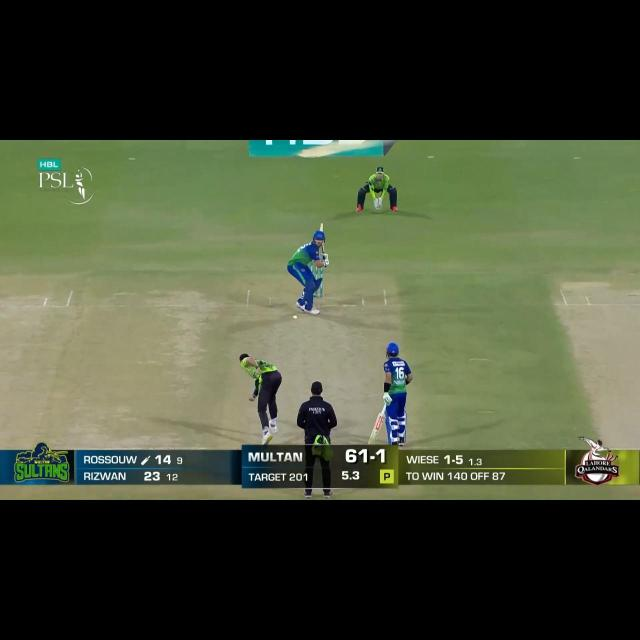bat: (368, 413, 385, 444), (318, 222, 329, 254)
toe: (368, 433, 377, 443), (319, 222, 324, 231)
